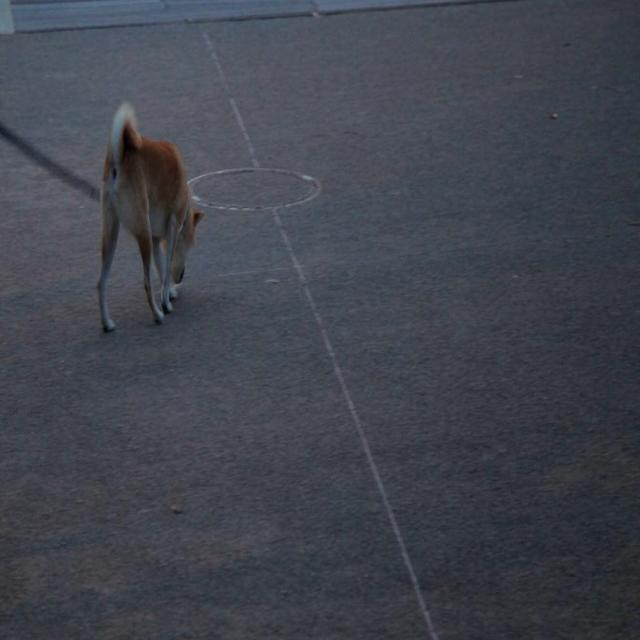Dog: (95, 100, 206, 334)
